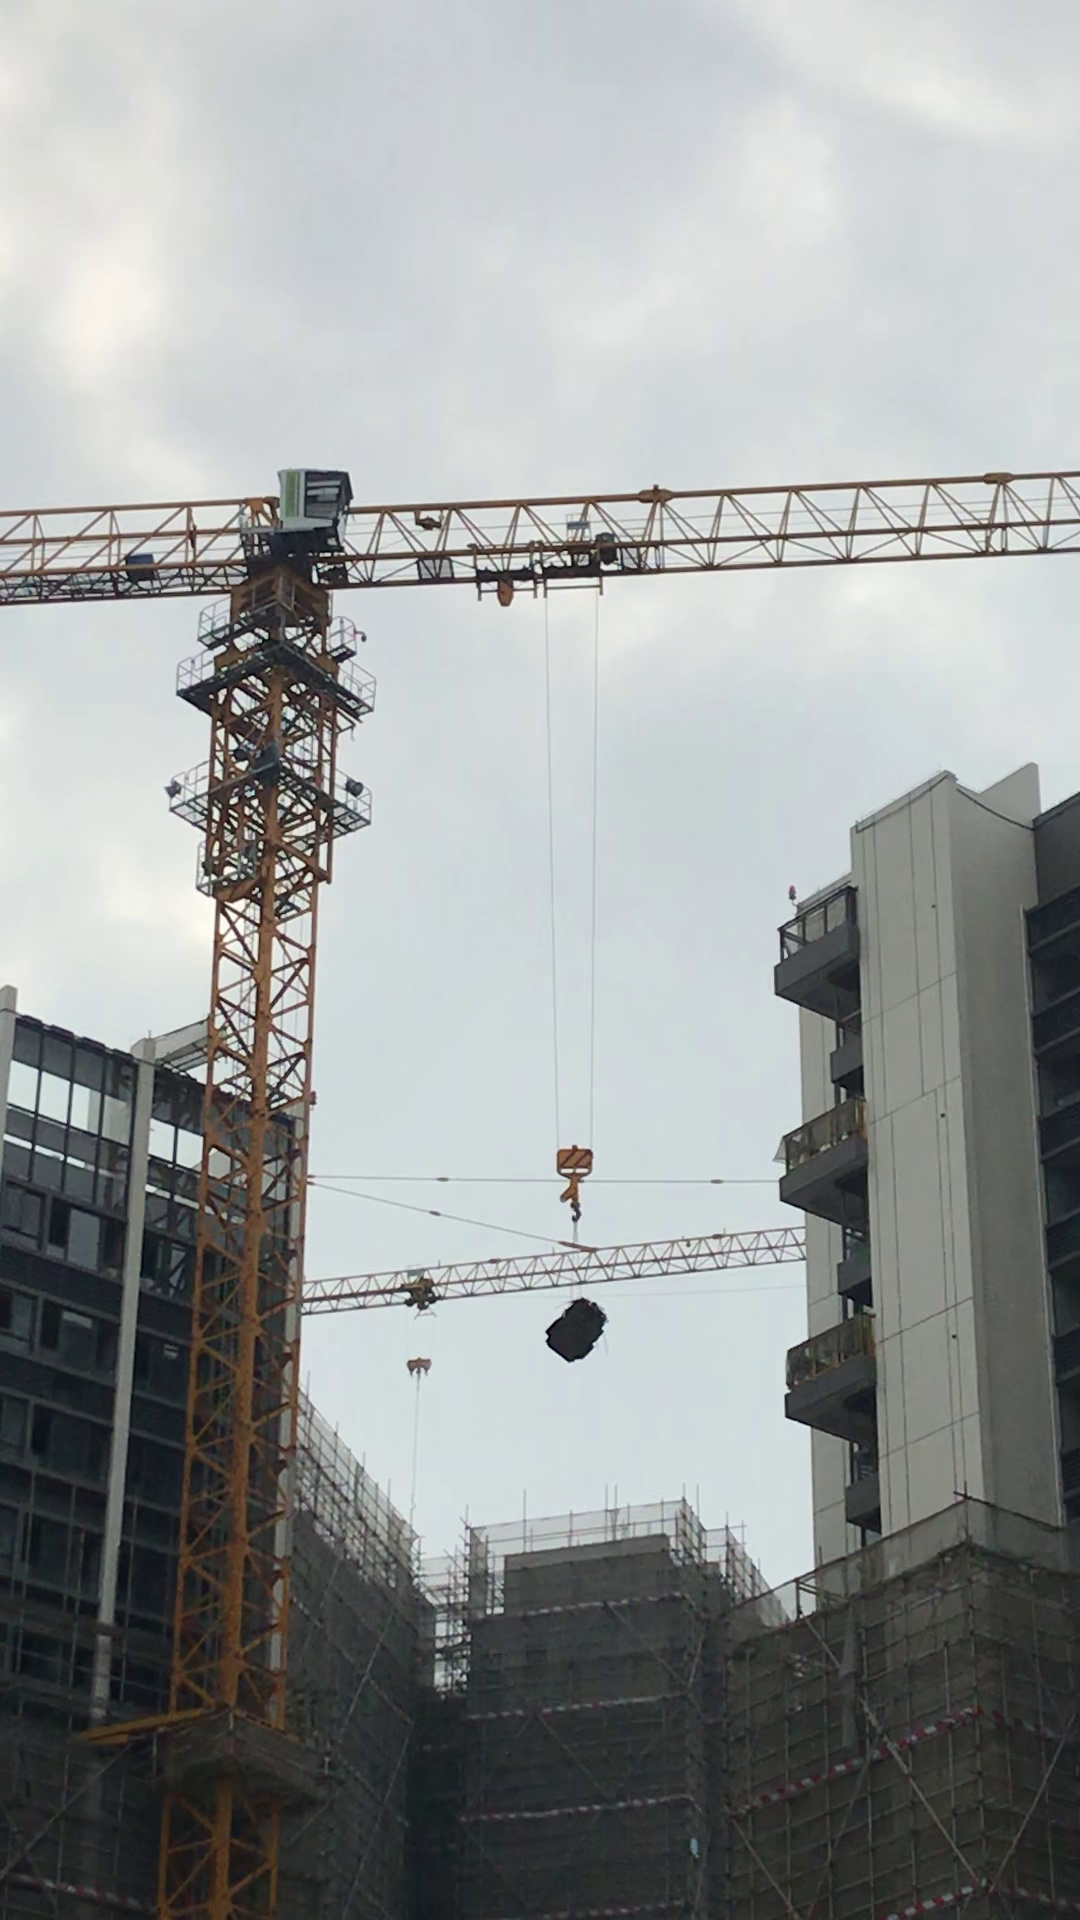board: (545, 1291, 611, 1369)
hook: (530, 1120, 615, 1244), (397, 1350, 440, 1387)
